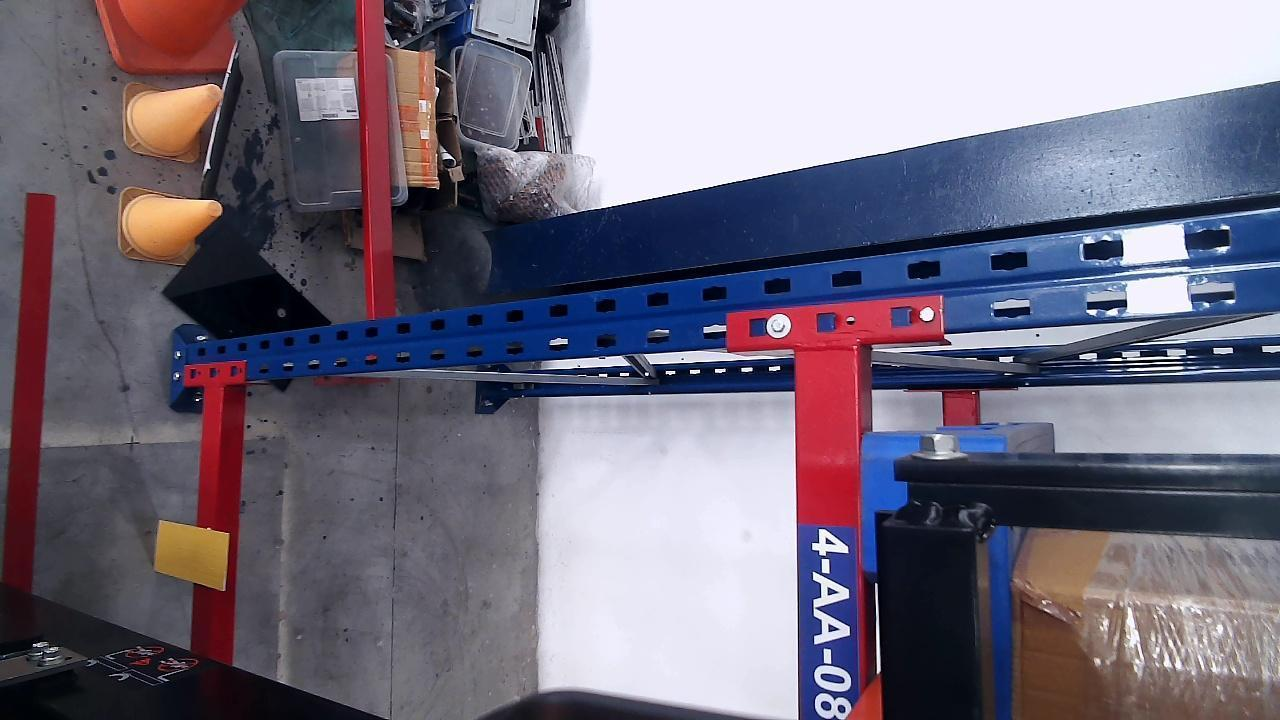red_line: (2, 193, 56, 591)
